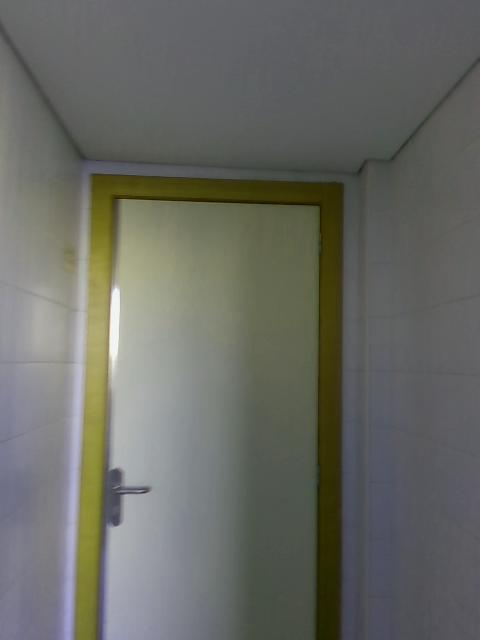closed_door: (65, 172, 341, 639)
